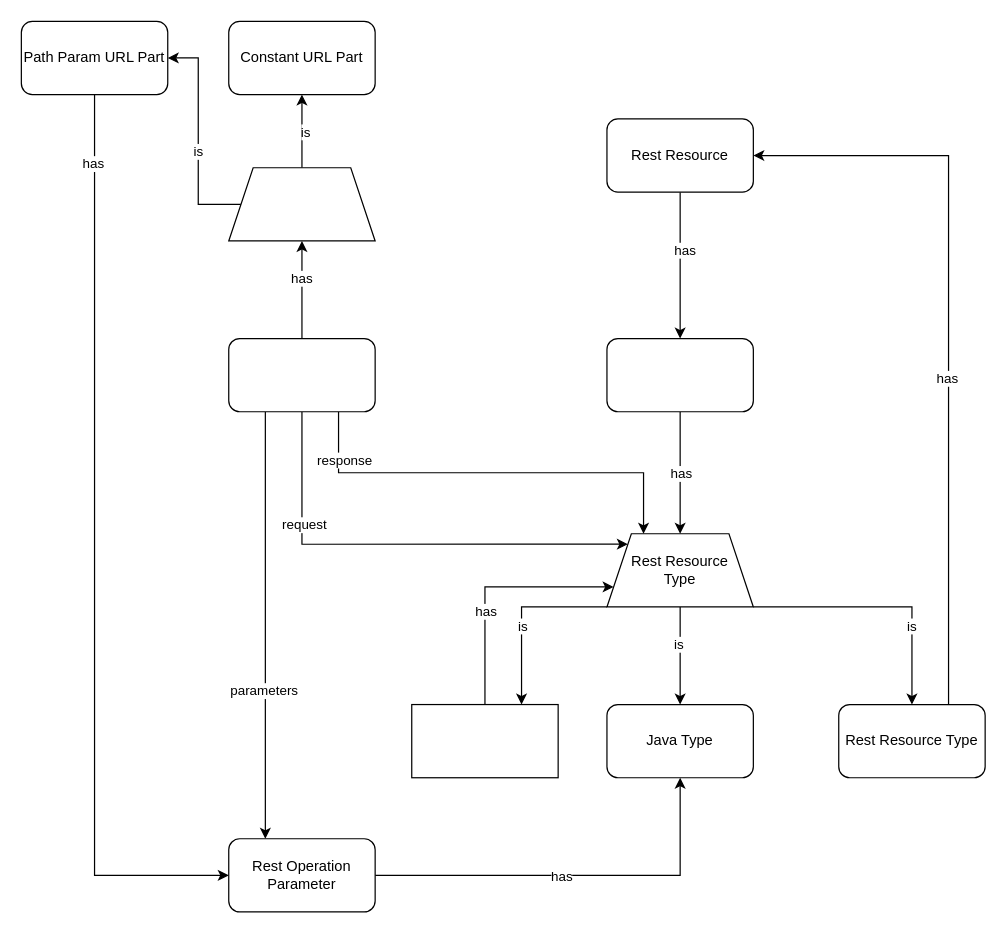
Image size: 1007x933. Some labels were removed from this diagram. Each missing label, with the box of its shape:
Array Type: (411, 703, 558, 778)
Rest Operation: (228, 337, 375, 412)
Rest Operation URL Part: (228, 167, 375, 241)
Rest Resource Property: (606, 337, 753, 412)
